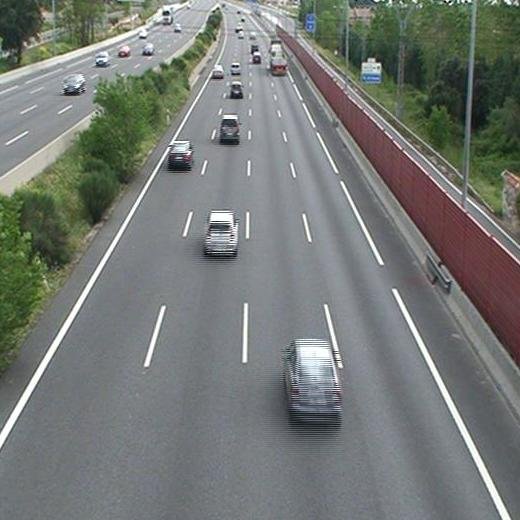car: (285, 339, 340, 417), (205, 211, 237, 252), (219, 116, 240, 139), (169, 142, 192, 163), (229, 82, 242, 97), (211, 65, 223, 77), (230, 63, 241, 74), (251, 53, 262, 63)
truck: (270, 42, 285, 75)
